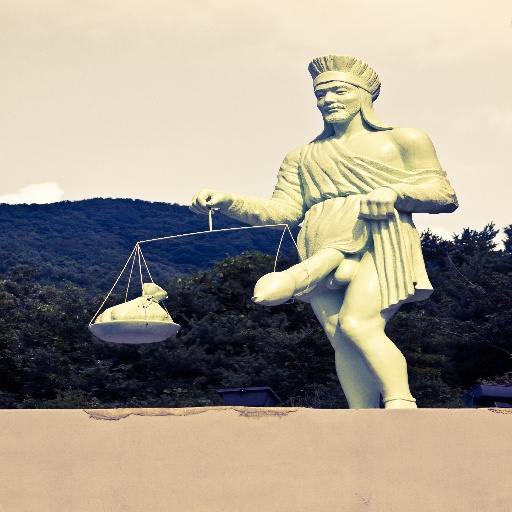hand: (355, 186, 398, 219), (185, 187, 232, 216)
